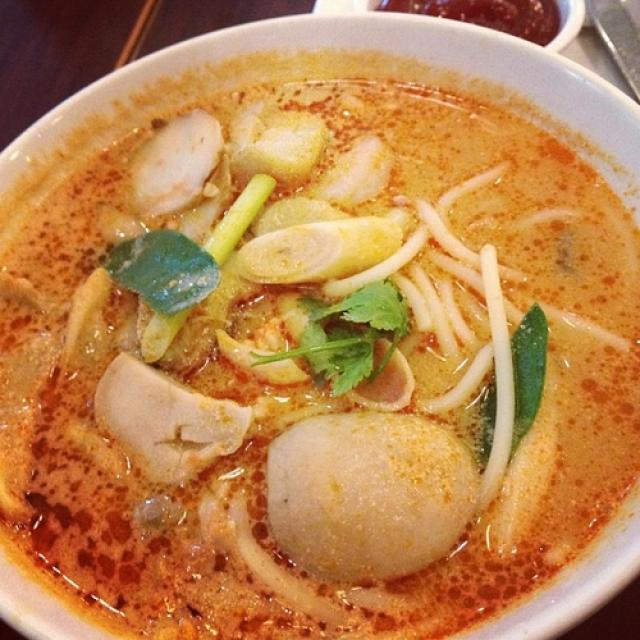汤锅炖物: (11, 37, 635, 626)
